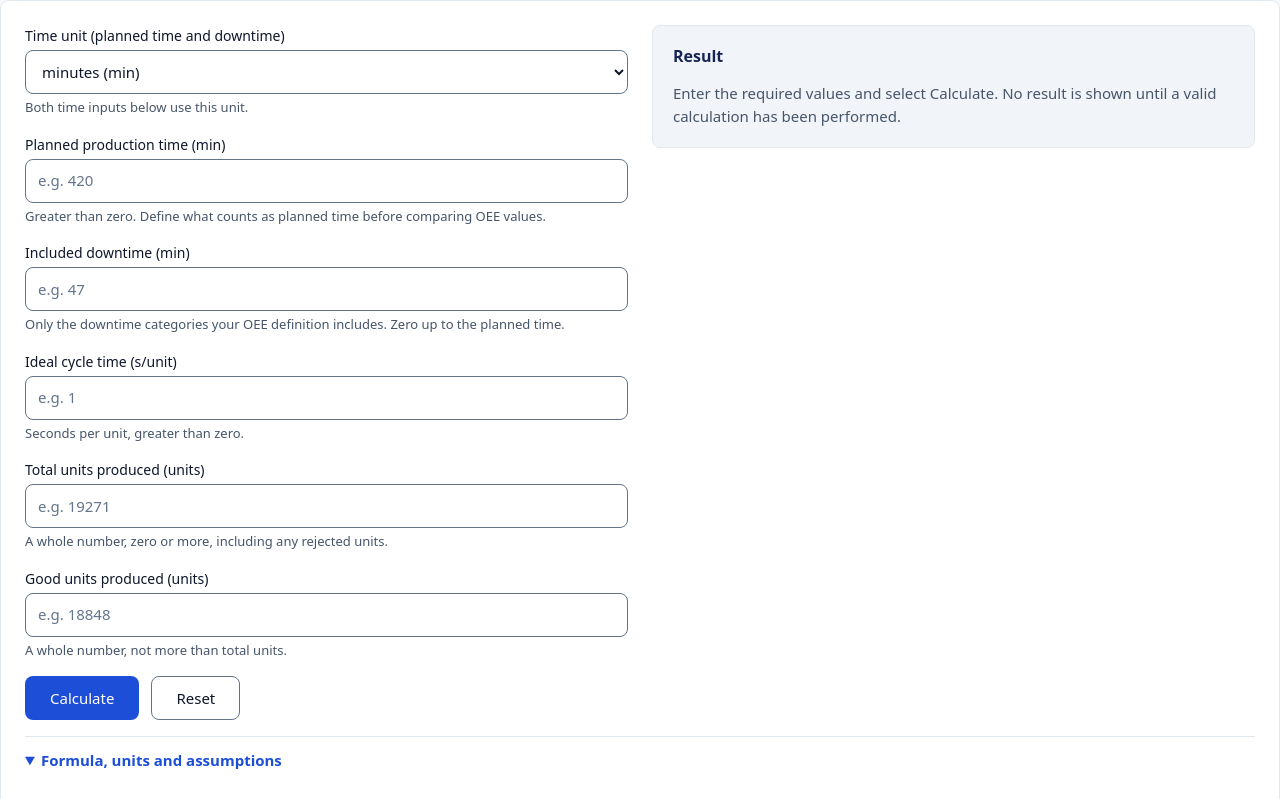
Test: OeeCalculator › reproduces the reference example: OEE 74.79 %
The image size is (1280, 799).
Type "420" into the field labelled "Planned production time (min)" at x=326, y=180, box [25,158,628,202]
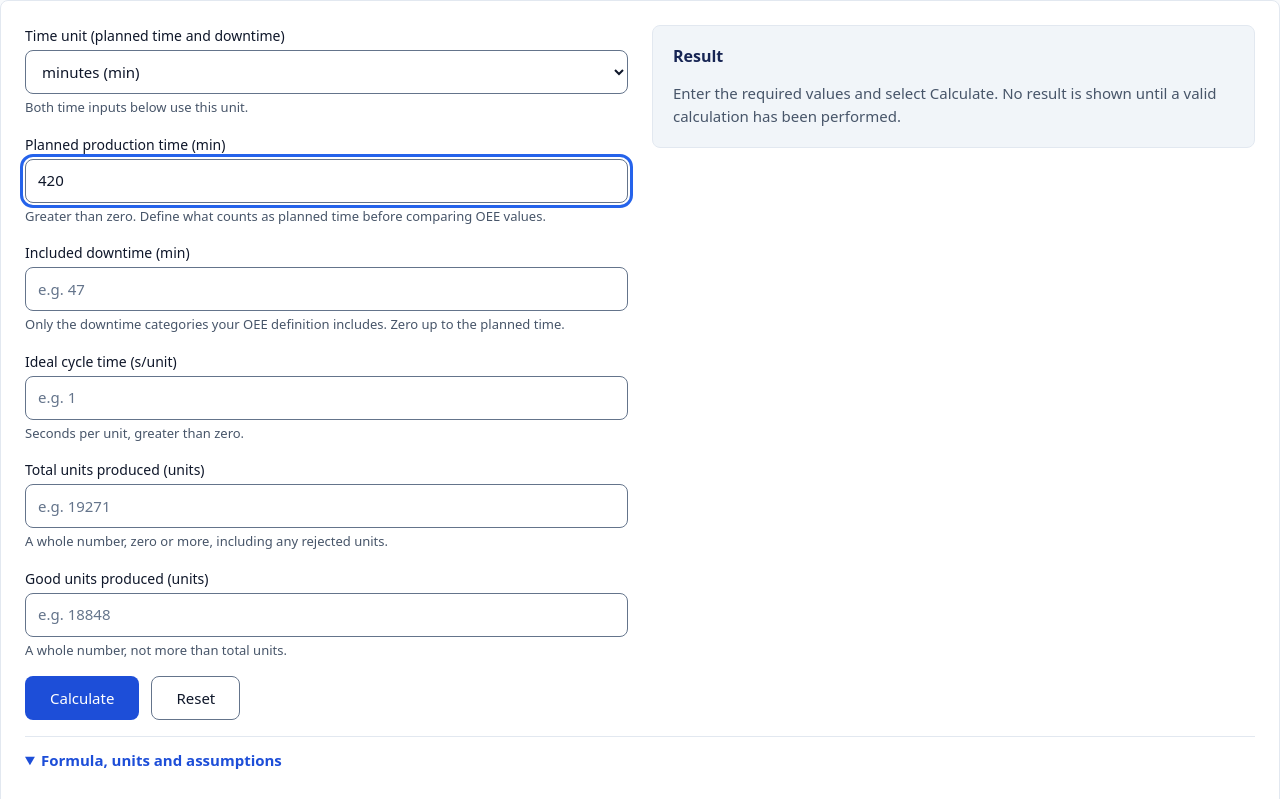
Type "47" into the field labelled "Included downtime (min)" at x=326, y=289, box [25,267,628,311]
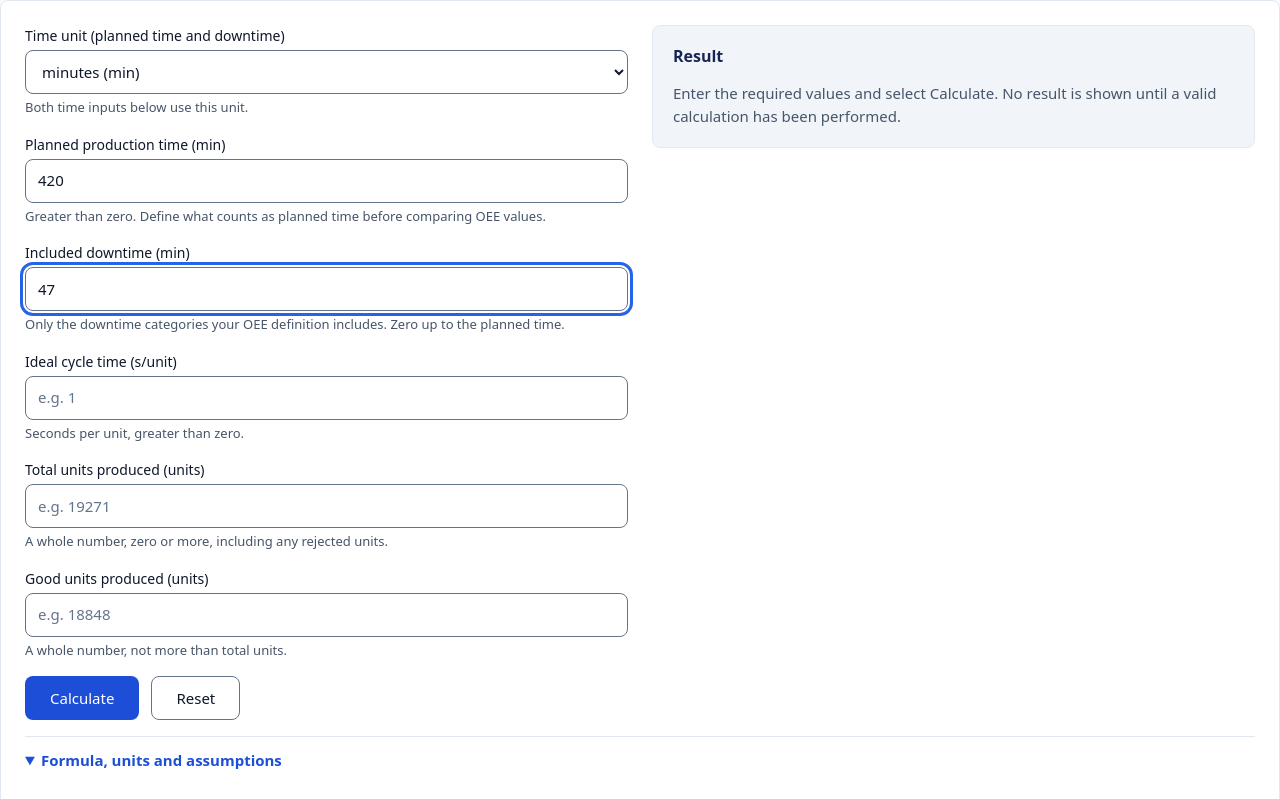
Type "1" into the field labelled "Ideal cycle time (s/unit)" at x=326, y=398, box [25,376,628,420]
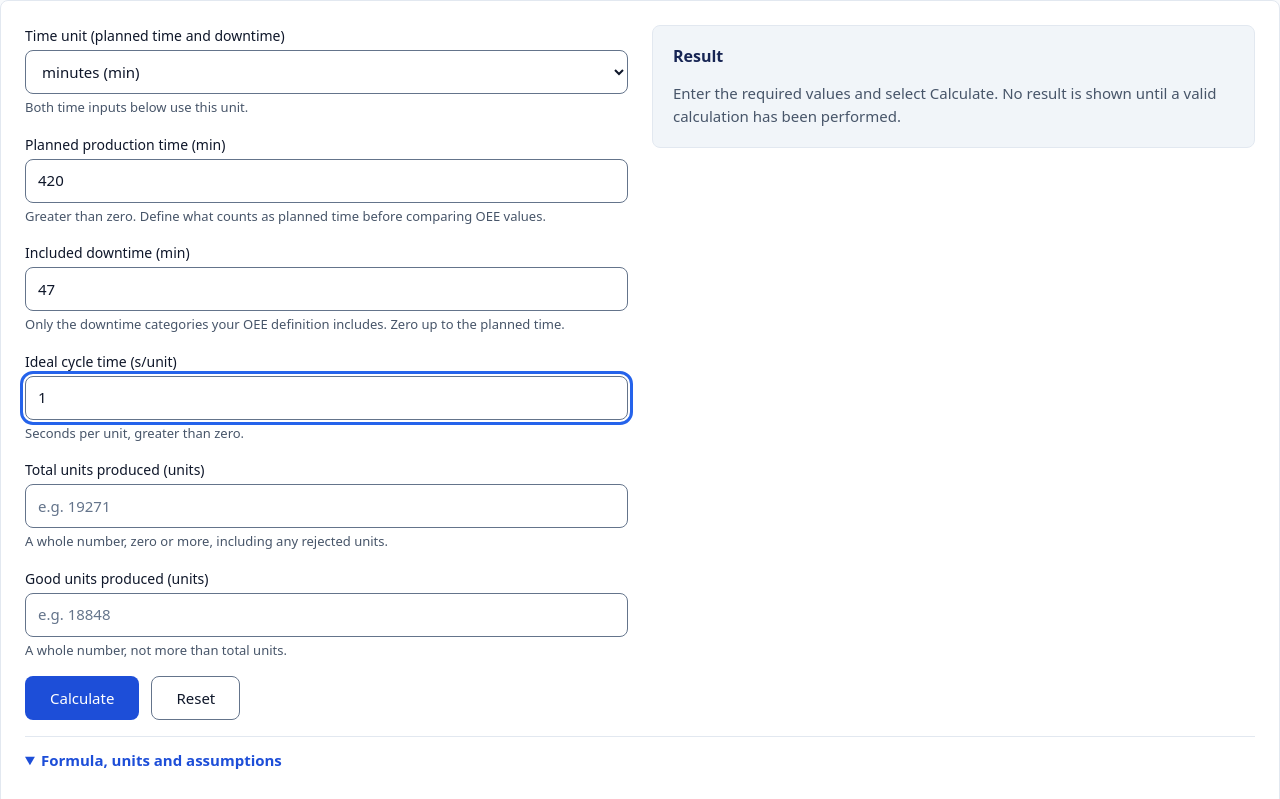
Type "19271" into the field labelled "Total units produced (units)" at x=326, y=506, box [25,484,628,528]
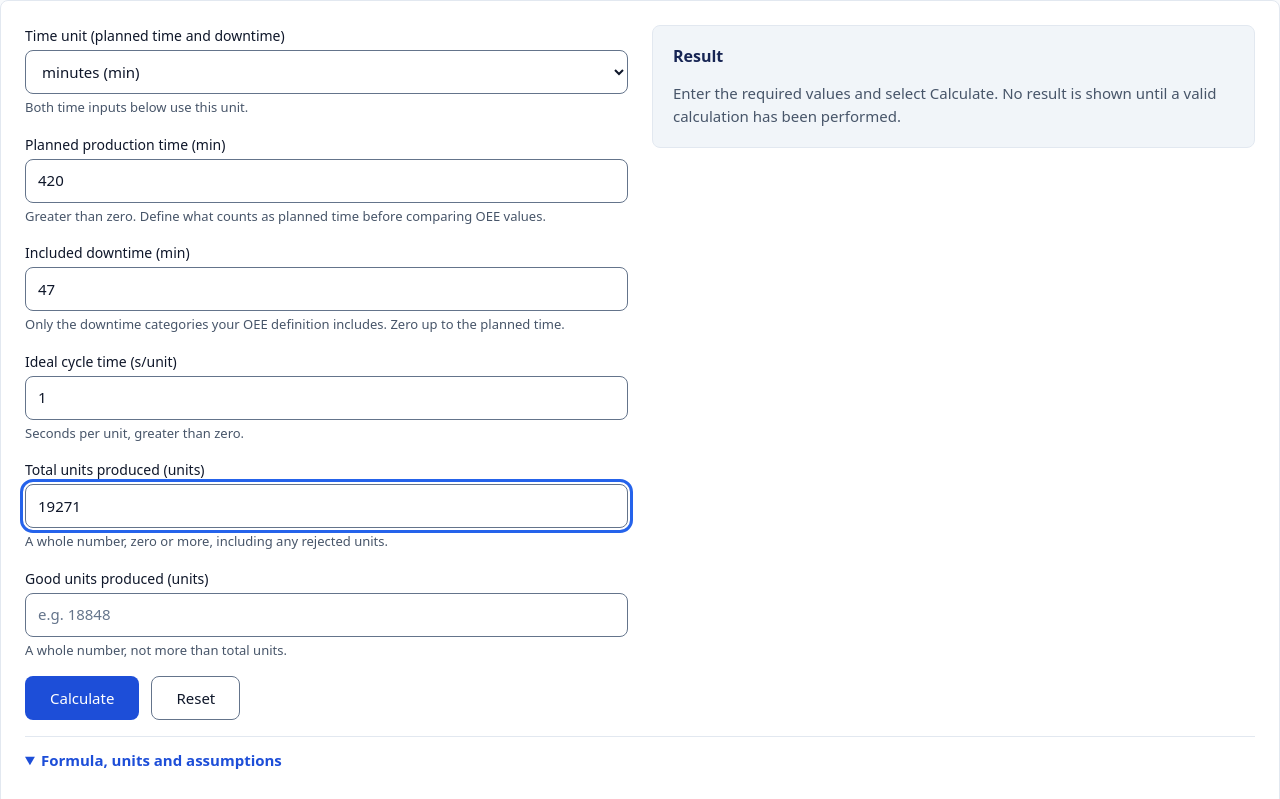
Type "18848" into the field labelled "Good units produced (units)" at x=326, y=614, box [25,592,628,636]
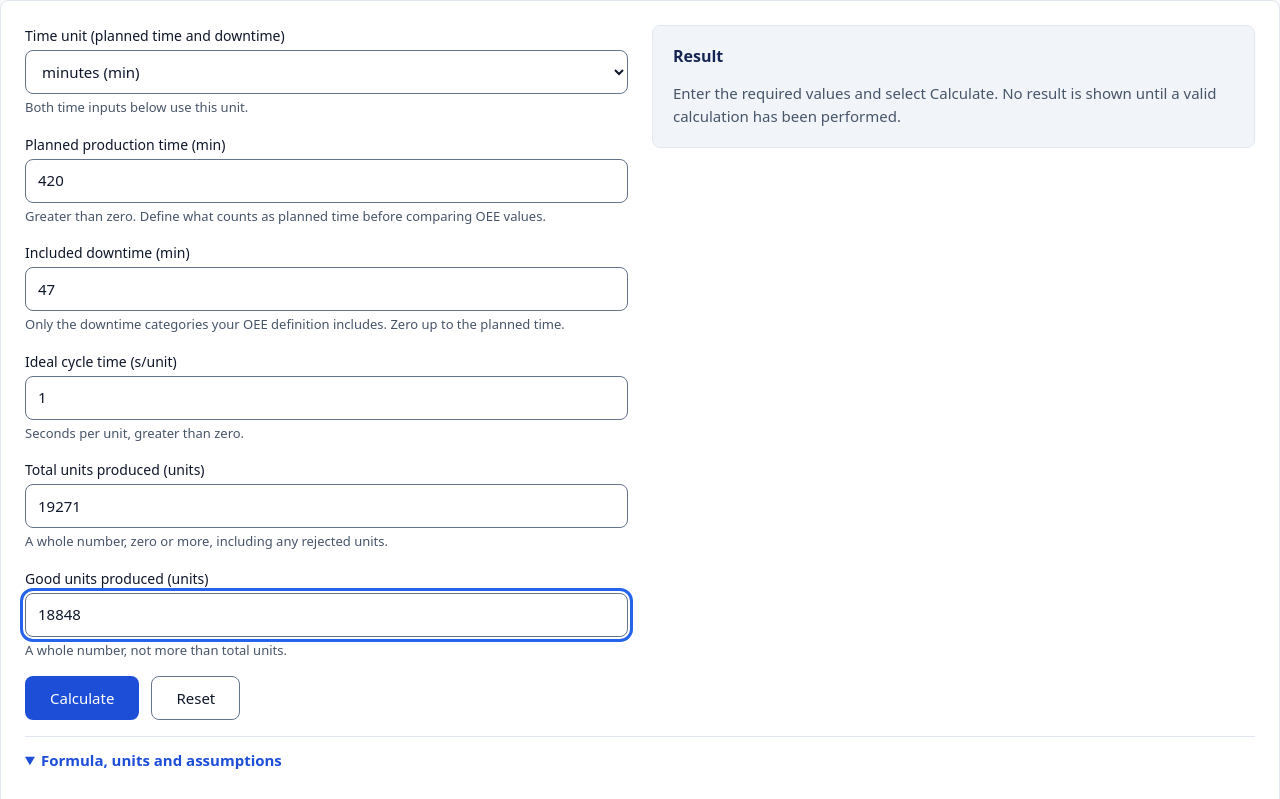
Click the button "Calculate" at x=82, y=698, box [25,676,139,720]
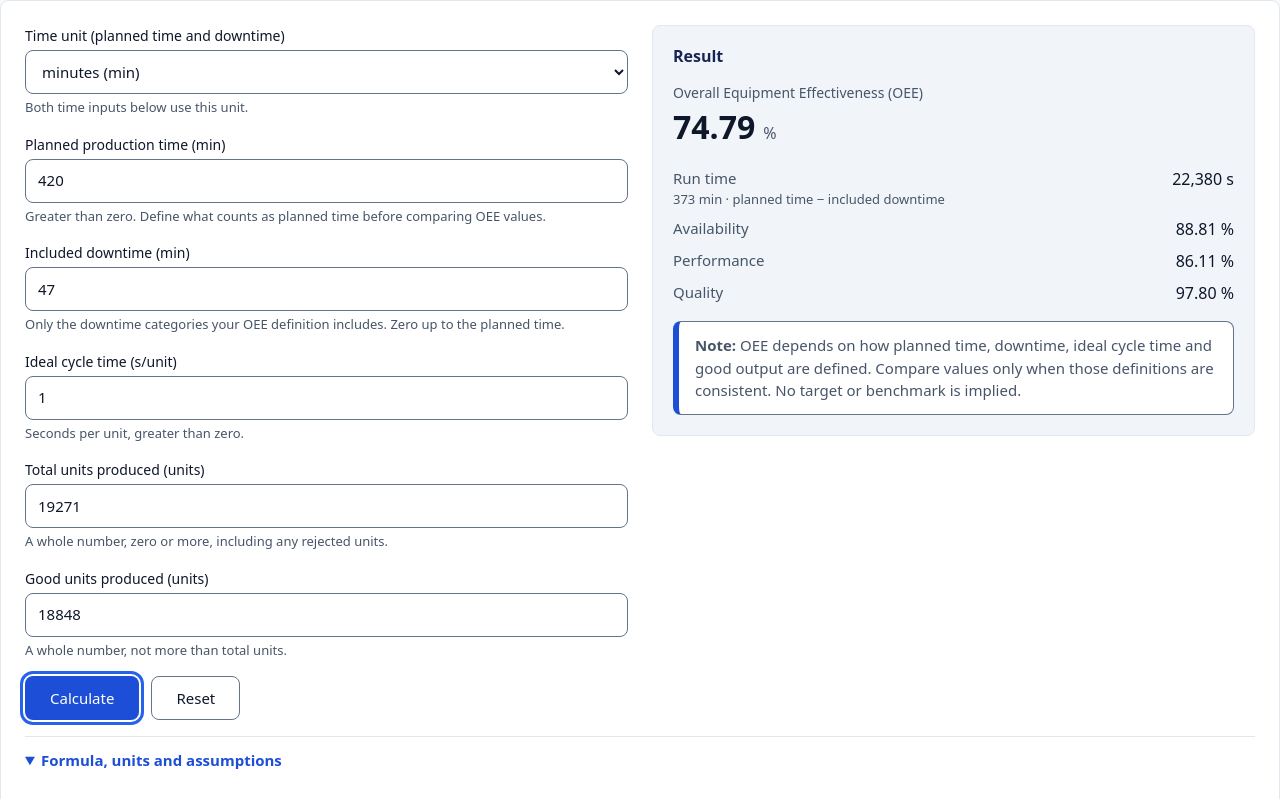
Check: the text "74.79" is shown, box [673,105,755,148]
Check: the text "88.81 %" is shown, box [1172,217,1234,241]
Check: the text "86.11 %" is shown, box [1172,249,1234,273]
